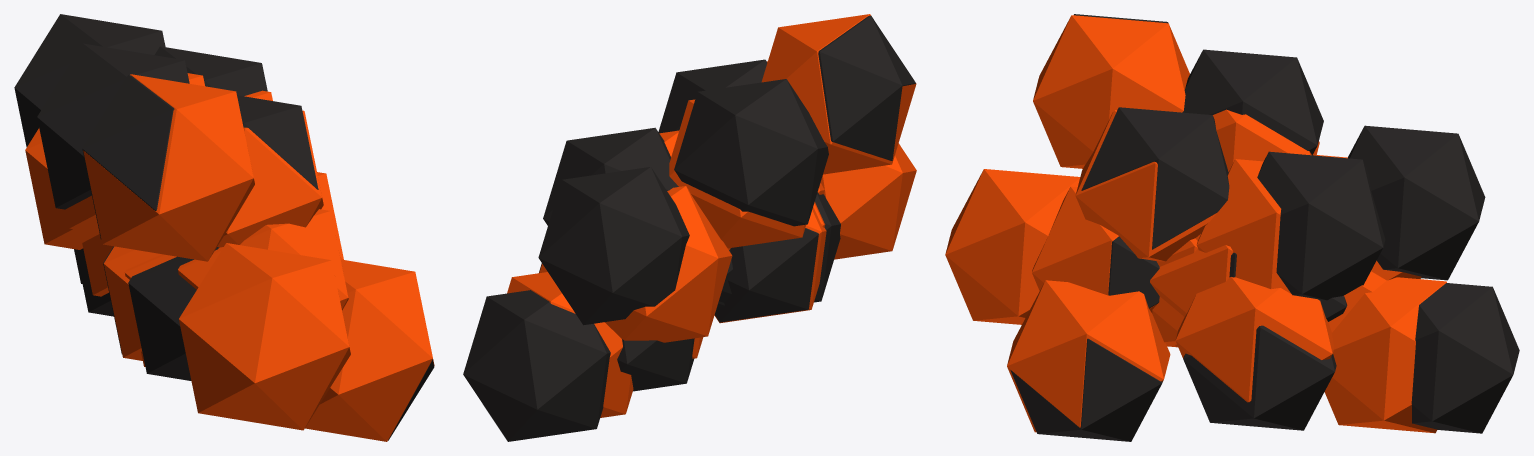
3 views of the same model, side by side, from view 1: azimuth 30°, elevation 25°; view 2: azimuth 150°, elevation 25°; view 3: azimuth 270°, elevation 25° (orthographic). The views are drawn at different scales.
Parts seen in each view (by area): view 1: FireTrail, Smoke; view 2: Smoke, FireTrail; view 3: FireTrail, Smoke.
Part boxes in pixels (box(x1,y1,x2,y2)): FireTrail: box(25, 73, 434, 441); Smoke: box(14, 14, 434, 440); Smoke: box(463, 15, 915, 441); FireTrail: box(507, 14, 916, 417); FireTrail: box(945, 15, 1446, 433); Smoke: box(1010, 14, 1519, 441).
Size of the model in its own units: 11.42 by 12.05 by 18.57.
